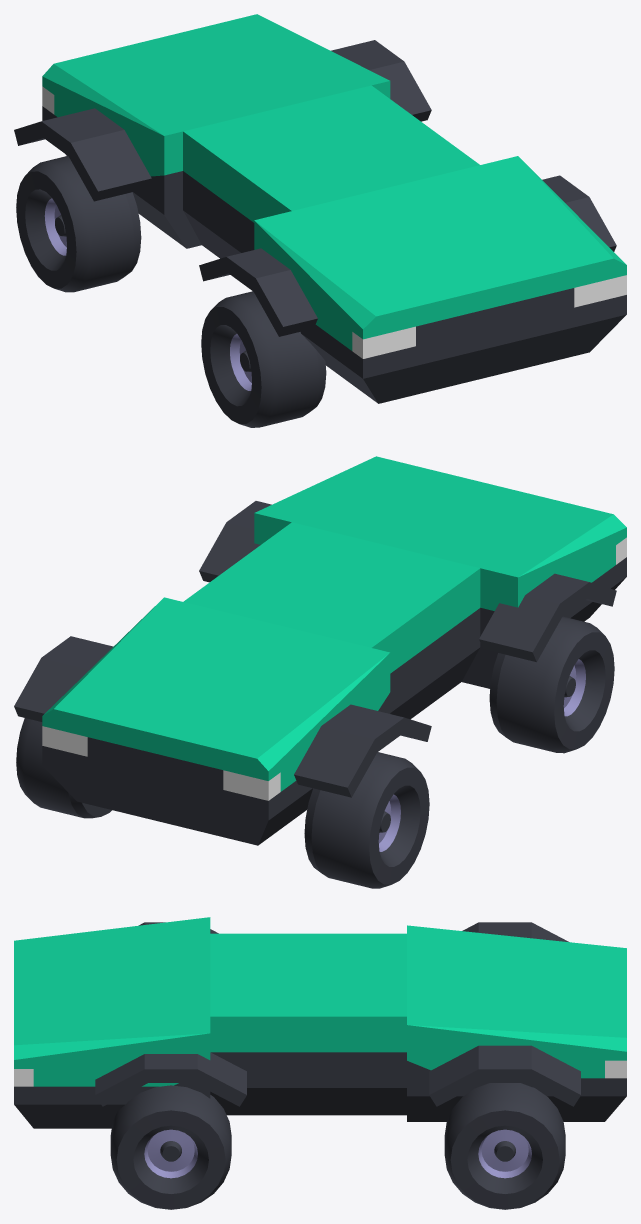
File: BaseA.fbx
3 views of the same model, one above another, from view 1: azimuth 30°, elevation 25°; view 2: azimuth 150°, elevation 25°; view 3: azimuth 270°, elevation 25° (orthographic). The views are drawn at different scales.
Visible parts, largest first — view 1: body_frontLarge (×2), body_standard, wheel_small (×2), wheel_coverSquare (×4); view 2: body_frontLarge (×2), body_standard, wheel_small (×3), wheel_coverSquare (×4); view 3: body_frontLarge (×2), body_standard, wheel_small (×2), wheel_coverSquare (×3).
Part boxes in pixels (x1,y1,x2,y2): body_frontLarge (×2): [42, 14, 626, 403]; body_standard: [183, 85, 479, 258]; wheel_small (×2): [16, 156, 326, 427]; wheel_coverSquare (×4): [14, 40, 616, 336]; body_frontLarge (×2): [42, 456, 626, 845]; body_standard: [183, 522, 480, 719]; wheel_small (×3): [16, 616, 614, 888]; wheel_coverSquare (×4): [14, 501, 616, 797]; body_frontLarge (×2): [14, 917, 626, 1128]; body_standard: [210, 933, 406, 1115]; wheel_small (×2): [110, 1083, 565, 1209]; wheel_coverSquare (×3): [95, 922, 580, 1106].
Size of the model in its own units: 18.75 by 9.08 by 31.2.
